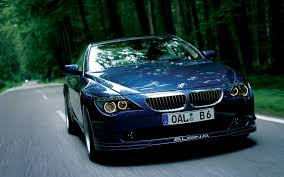car: (58, 31, 263, 165)
